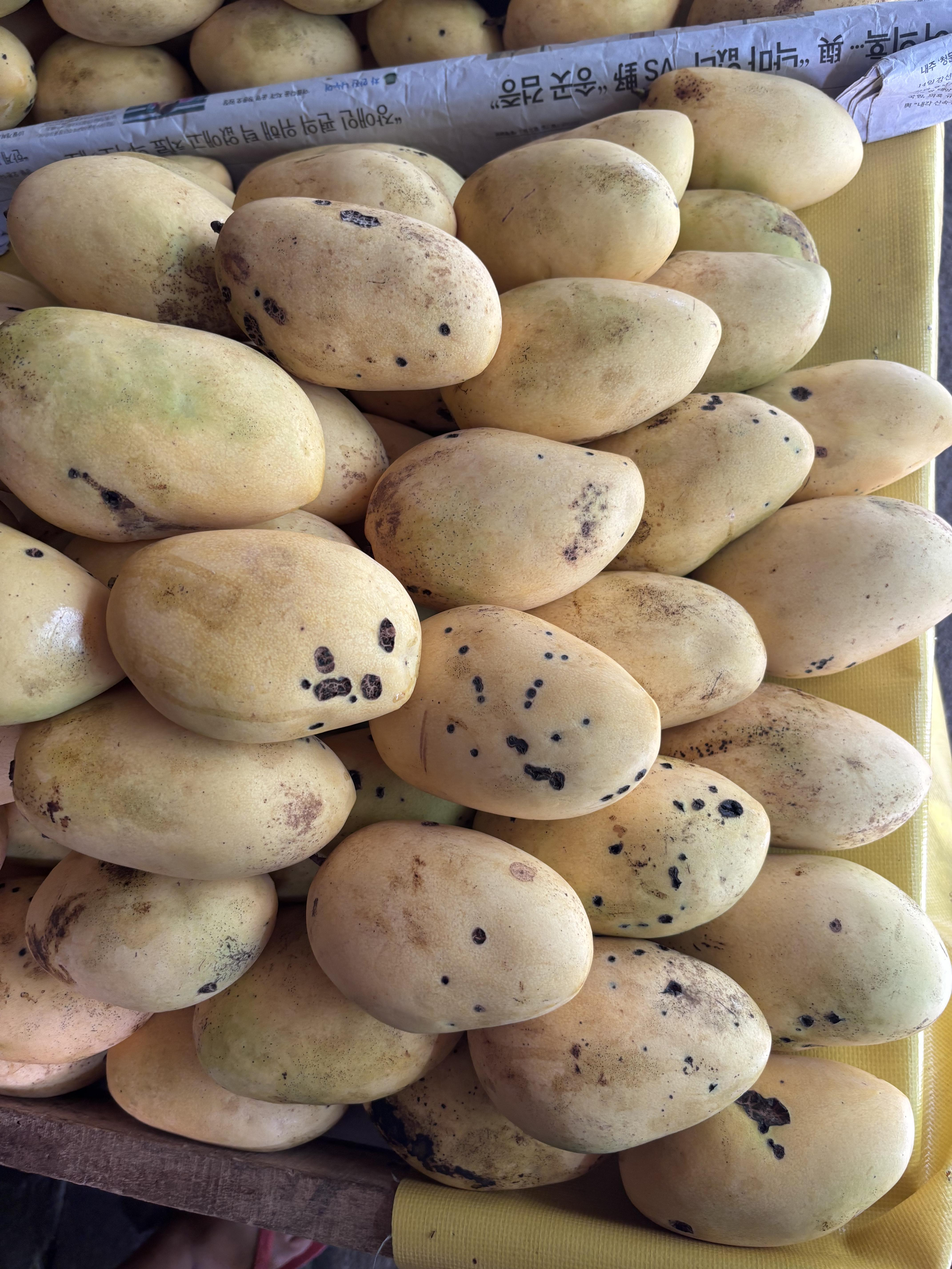mango: (107, 529, 421, 743), (306, 821, 593, 1040), (215, 197, 501, 391), (365, 428, 643, 610)
occluded: (0, 307, 325, 541), (13, 683, 356, 880), (470, 936, 770, 1153), (372, 605, 660, 820), (619, 1055, 914, 1247), (668, 854, 952, 1053), (474, 758, 770, 938), (193, 905, 456, 1106), (696, 496, 952, 679), (442, 277, 721, 443), (661, 684, 931, 850), (7, 154, 238, 335), (25, 853, 278, 1012), (595, 393, 813, 576), (531, 571, 766, 729), (365, 1040, 600, 1190), (455, 137, 680, 293), (106, 1009, 346, 1152), (638, 67, 863, 210), (747, 359, 952, 503), (0, 876, 150, 1065), (651, 251, 831, 393), (0, 526, 125, 726), (233, 150, 456, 235), (190, 0, 362, 92), (529, 109, 694, 202), (32, 35, 192, 122), (295, 380, 388, 524), (259, 142, 464, 203), (674, 189, 819, 263), (367, 0, 502, 65), (503, 0, 680, 49), (46, 0, 222, 46), (112, 151, 235, 208), (0, 1051, 106, 1098), (64, 535, 155, 588), (250, 509, 356, 547), (3, 802, 68, 863), (0, 27, 36, 130), (364, 413, 431, 463), (168, 154, 233, 192), (0, 0, 28, 17)
